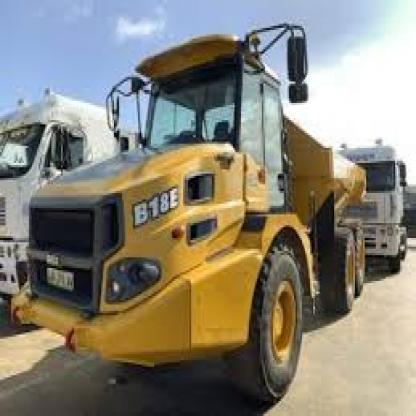dump_truck: (22, 19, 405, 403)
